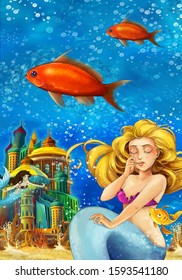fish: (26, 48, 127, 112), (106, 19, 163, 48)
